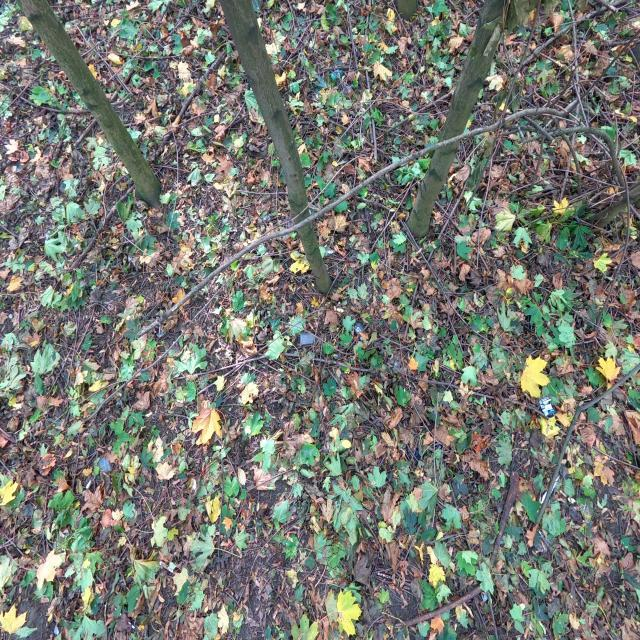rubbish: (351, 321, 369, 342), (538, 396, 556, 417), (96, 457, 112, 473), (328, 68, 344, 83), (300, 332, 314, 345), (339, 83, 354, 95)
